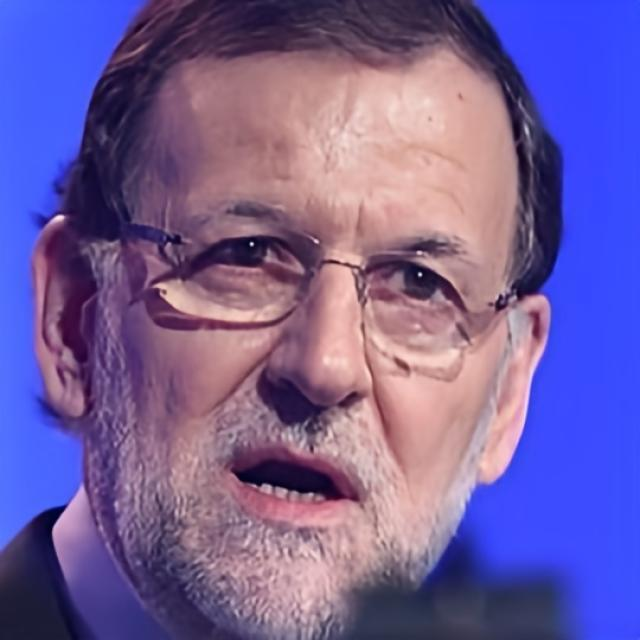anger: (108, 46, 511, 618)
